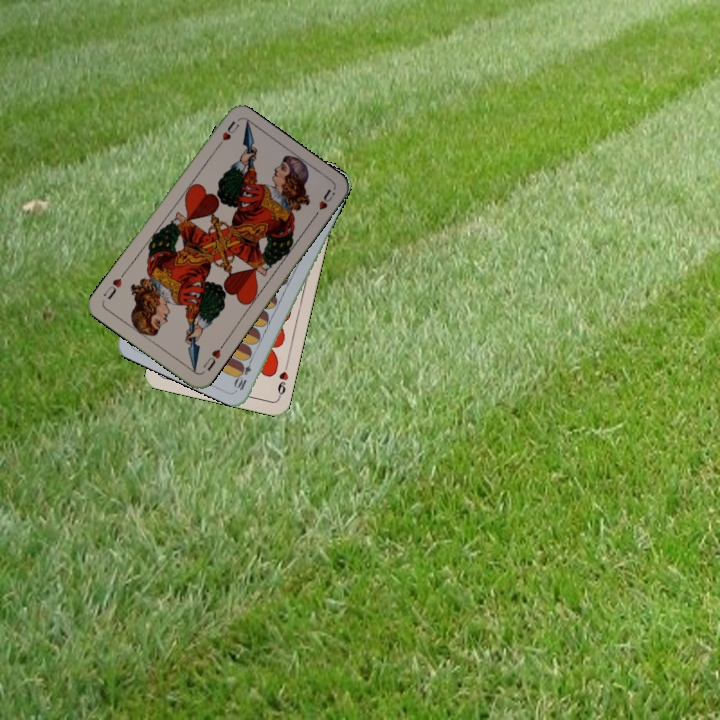E10: (232, 353, 256, 393)
H9: (273, 361, 291, 401)
HU: (211, 117, 242, 152), (199, 340, 227, 374)
